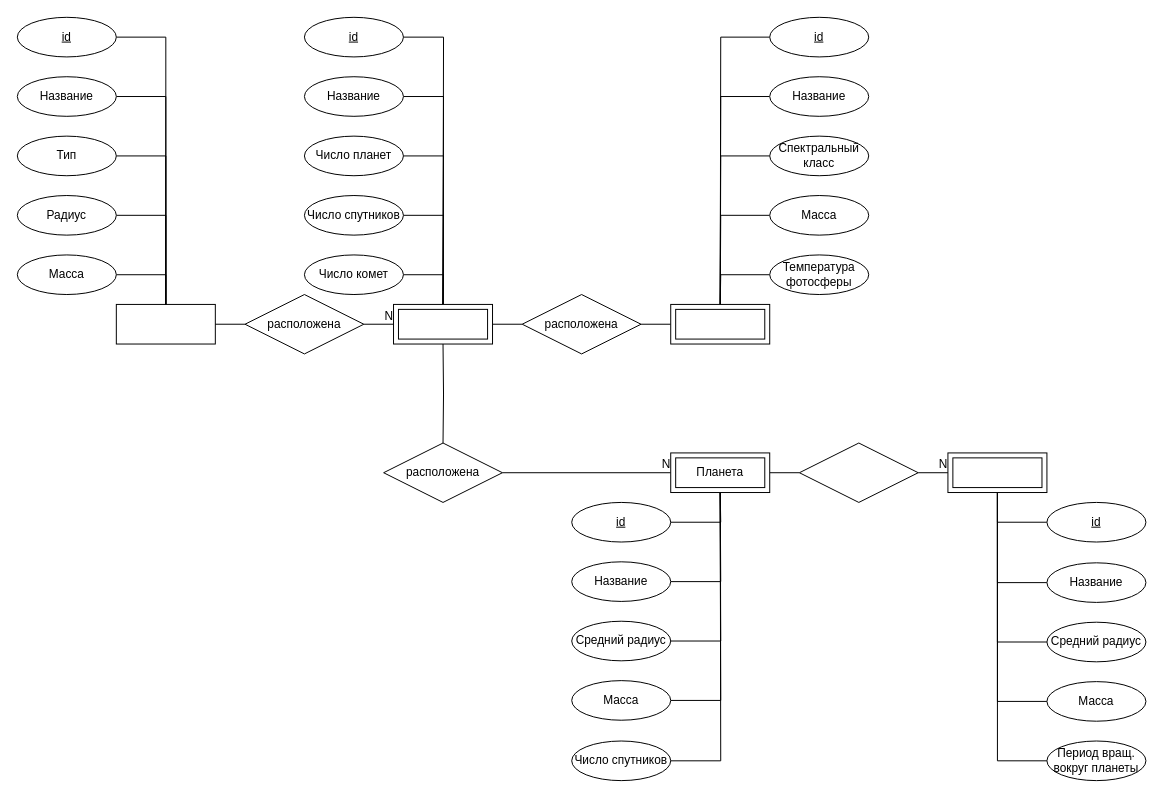
Image size: 1163x798. Some labels were removed from this diagram. Here are the shapes that lost their labels. From the top down, the box of each, then its label:
(115, 303, 215, 344): Галактика
(393, 303, 493, 344): Планетарная система
(670, 303, 770, 344): Звезда
(798, 442, 918, 502): вращается вокруг
(947, 452, 1047, 493): Спутник
